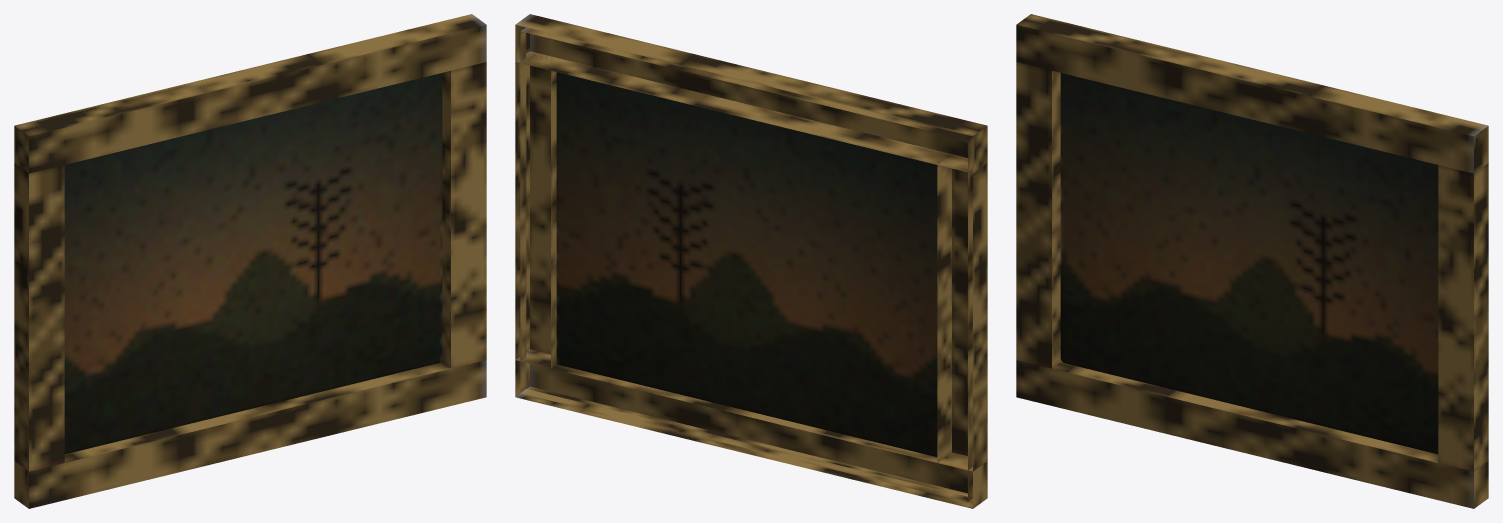
The model's file is Atmos_Painting_Land.fbx.
The picture shows the model from 3 angles, left to right: view 1: azimuth 30°, elevation 25°; view 2: azimuth 150°, elevation 25°; view 3: azimuth 330°, elevation 25°; orthographic projection.
Parts seen in each view (by area): view 1: Atmos_Painting_Land; view 2: Atmos_Painting_Land; view 3: Atmos_Painting_Land.
Boxes of the visible parts, box(x1,y1,x2,y2) form: Atmos_Painting_Land: box(14, 14, 486, 508); Atmos_Painting_Land: box(515, 14, 987, 508); Atmos_Painting_Land: box(1016, 14, 1488, 508).
Bounding box in the file's own units: 90 × 70 × 5.
Materials: 1 (1 with a texture image).
